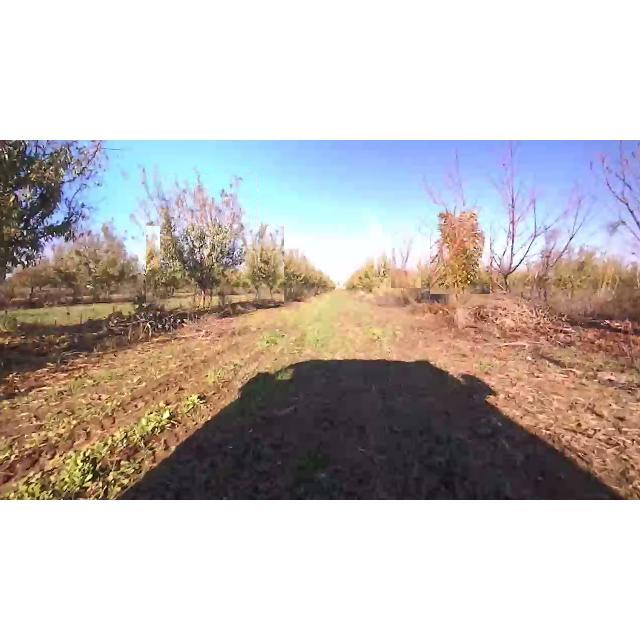direk: (146, 174, 258, 310), (478, 142, 574, 298), (430, 206, 490, 294), (243, 226, 284, 304), (391, 234, 421, 288), (280, 248, 306, 300)
